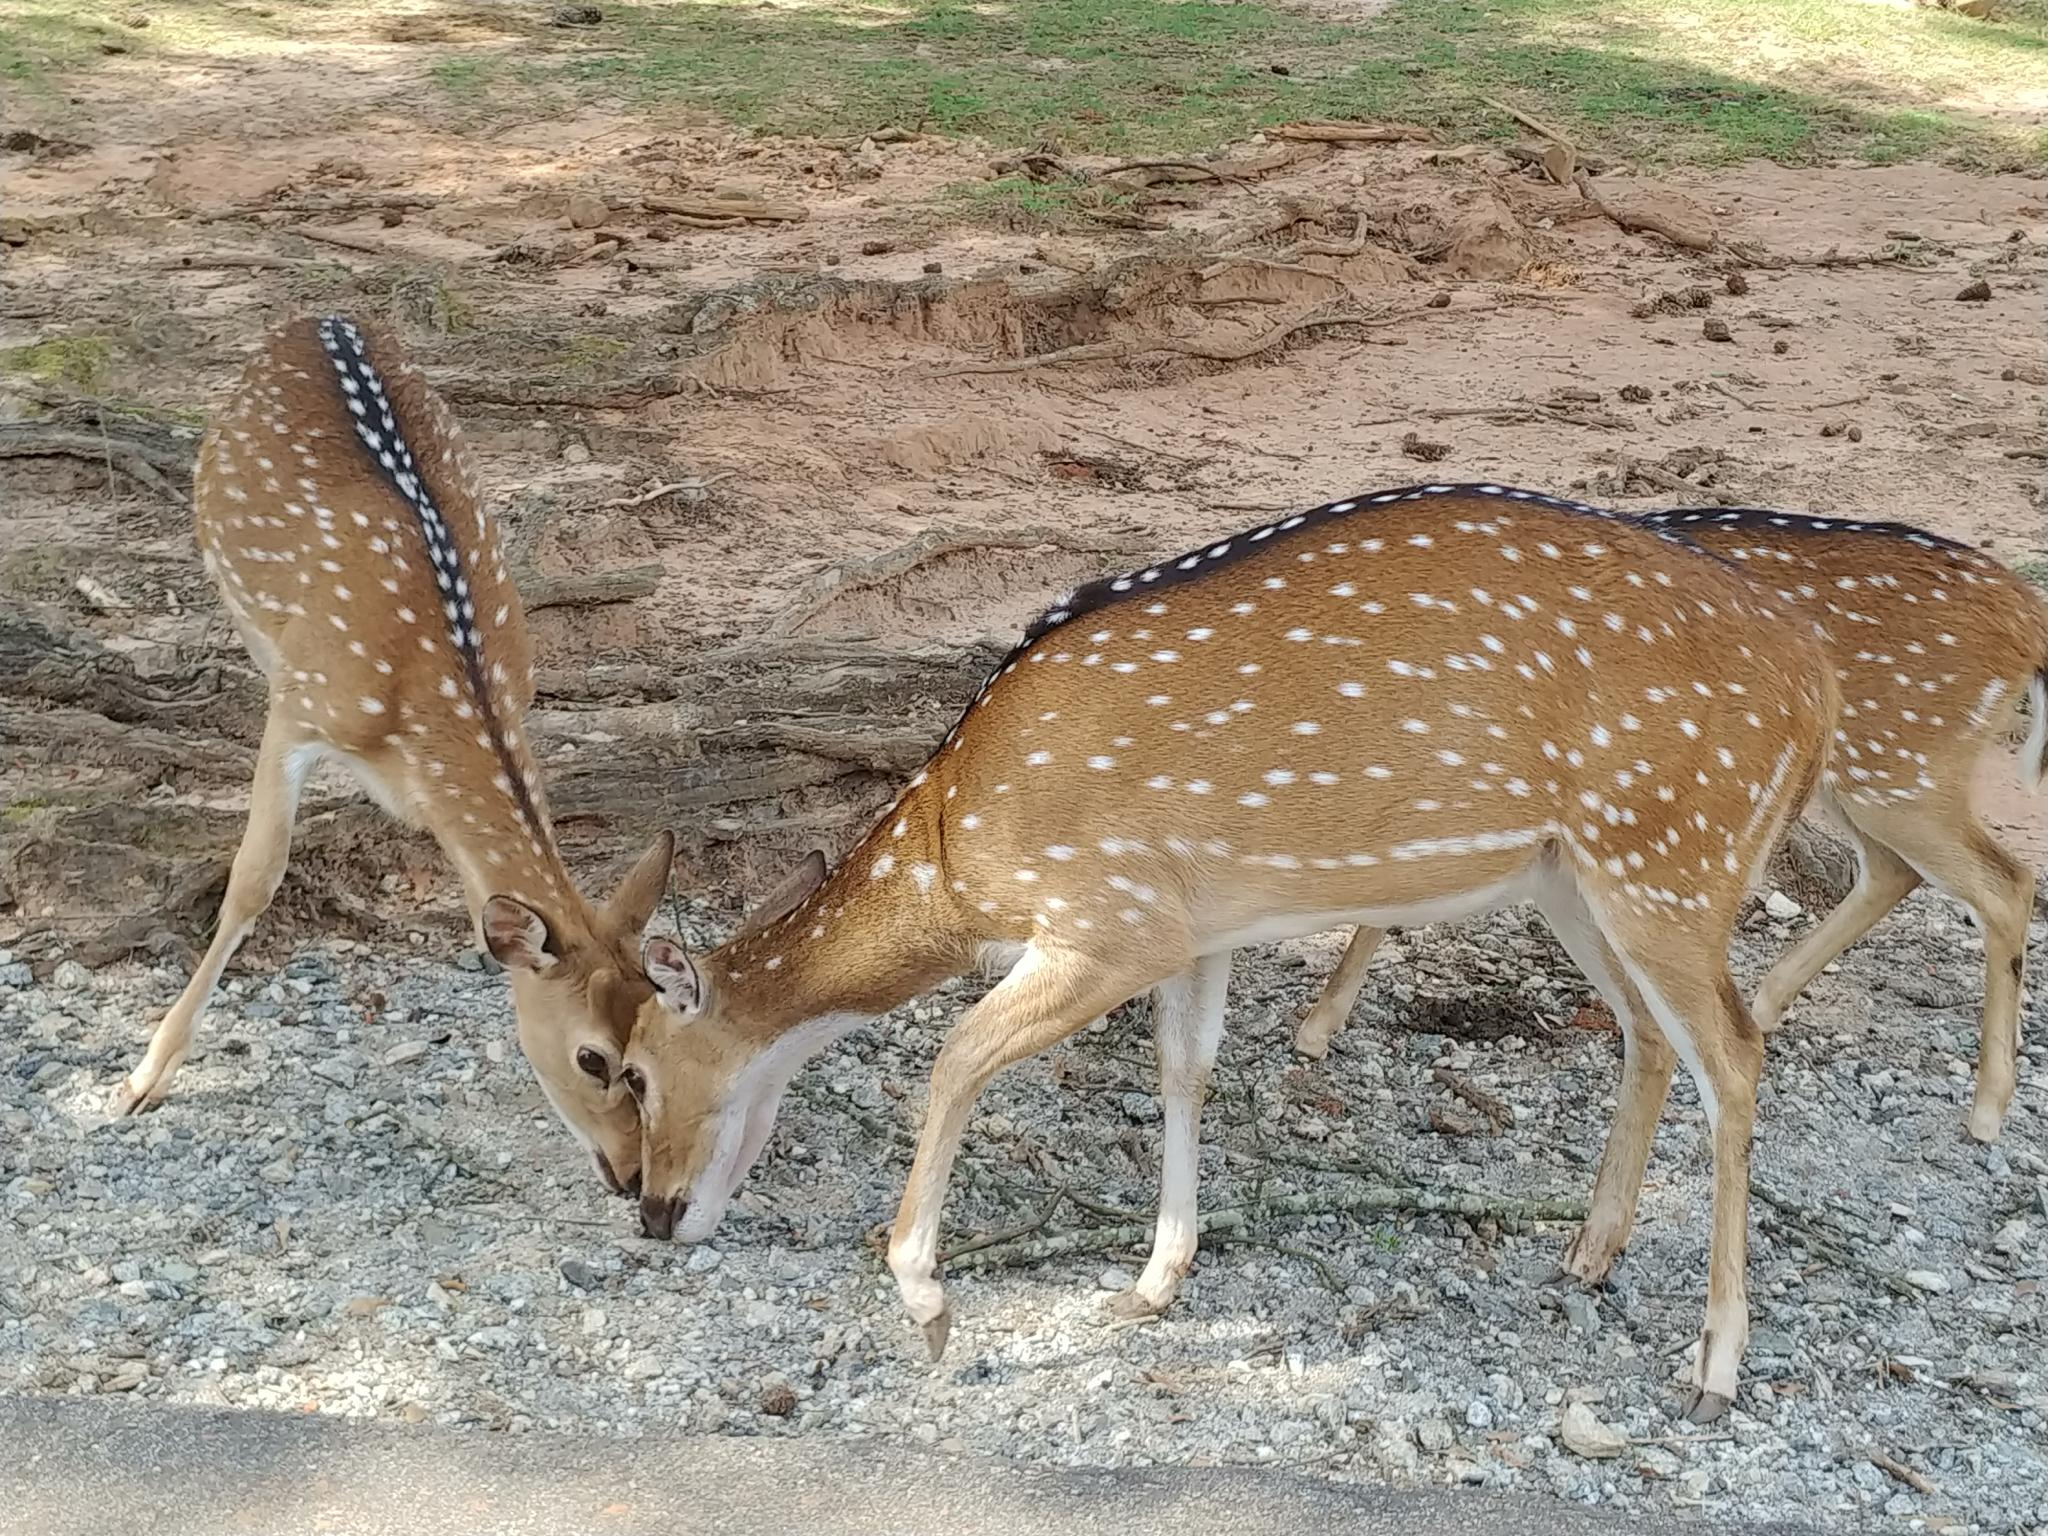Deer: (622, 486, 1829, 1397), (114, 316, 669, 1196), (1645, 508, 2046, 1141)
